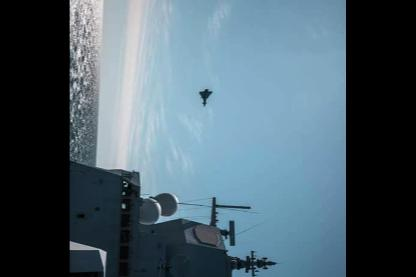E2: (200, 88, 213, 107)
